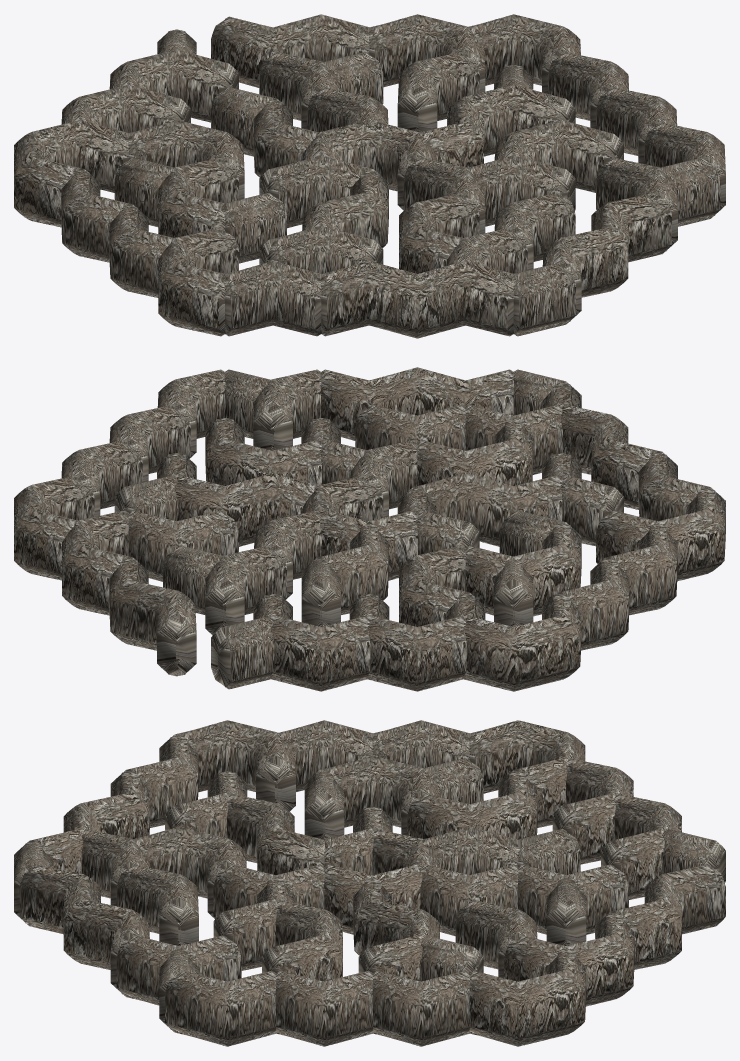
File: maze2.fbx
3 renders of one model, top to bottom at view 1: azimuth 30°, elevation 25°; view 2: azimuth 150°, elevation 25°; view 3: azimuth 270°, elevation 25°, orthographic.
Parts seen in each view (by area): view 1: Curve.035; view 2: Curve.035; view 3: Curve.035.
Boxes of the visible parts, <box> form: Curve.035: <box>14,14,725,338</box>; Curve.035: <box>14,367,725,691</box>; Curve.035: <box>14,720,725,1046</box>.
Size of the model in its own units: 1162 by 127 by 1257.
